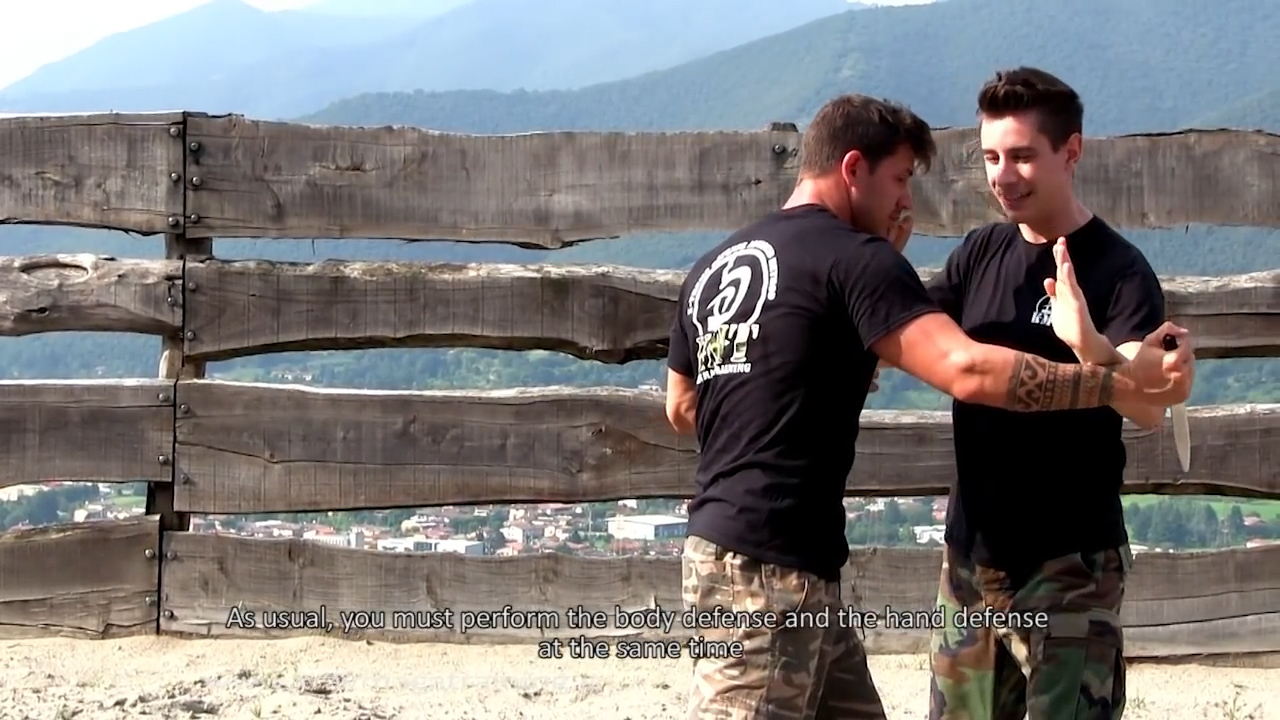knife: (1146, 319, 1202, 476)
